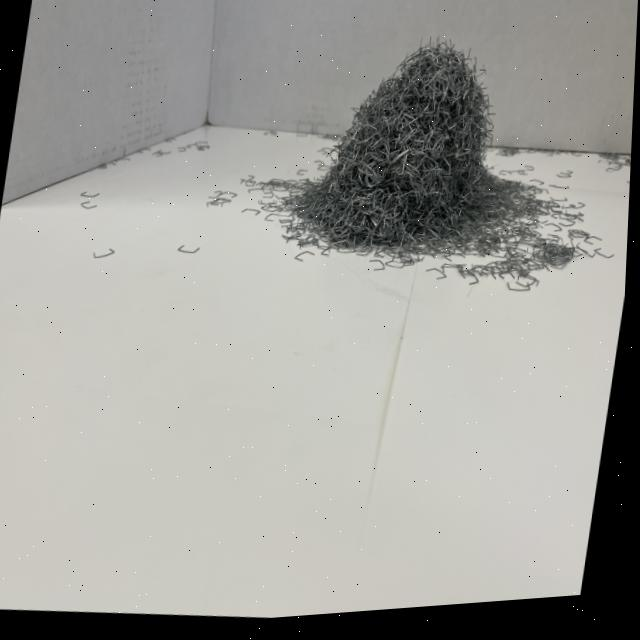staples: (284, 16, 514, 266)
